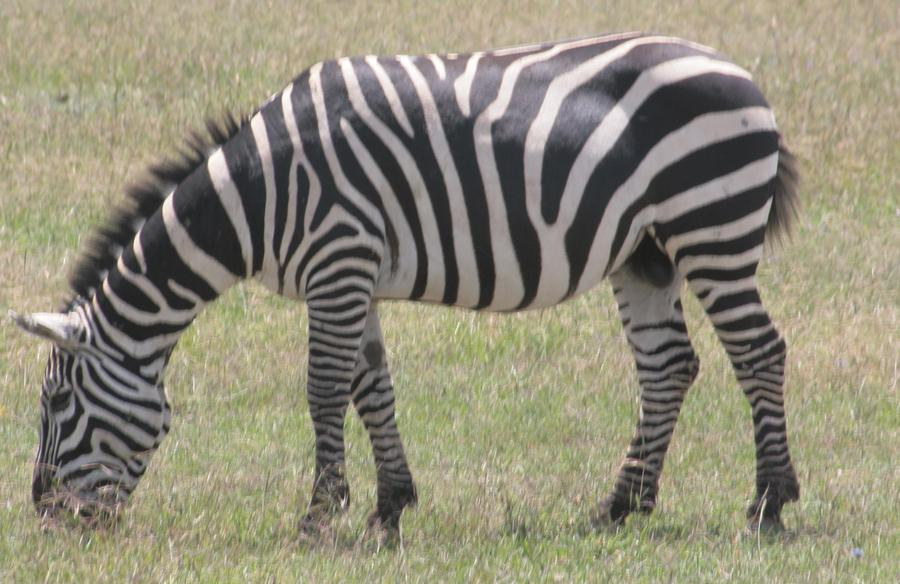zebra_plains: (265, 45, 766, 284)
